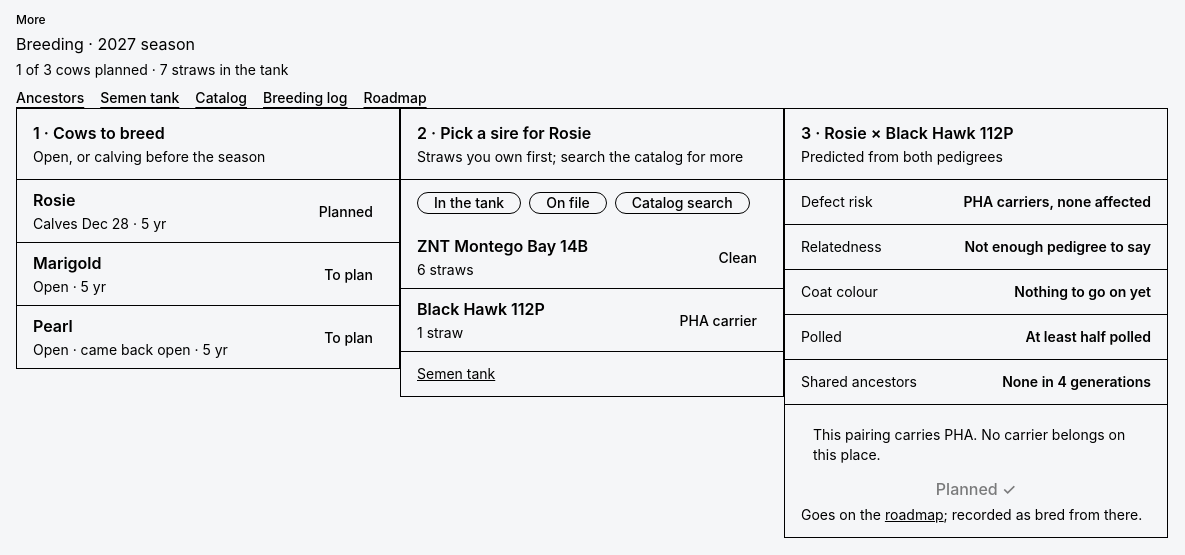
Scenario: The breeding workspace › refuses a carrier pairing out loud
This screenshot has width=1185, height=555.
Click the button "Marigold Open · 5 yr To plan" at coordinates (67, 263), box [17,243,399,305]
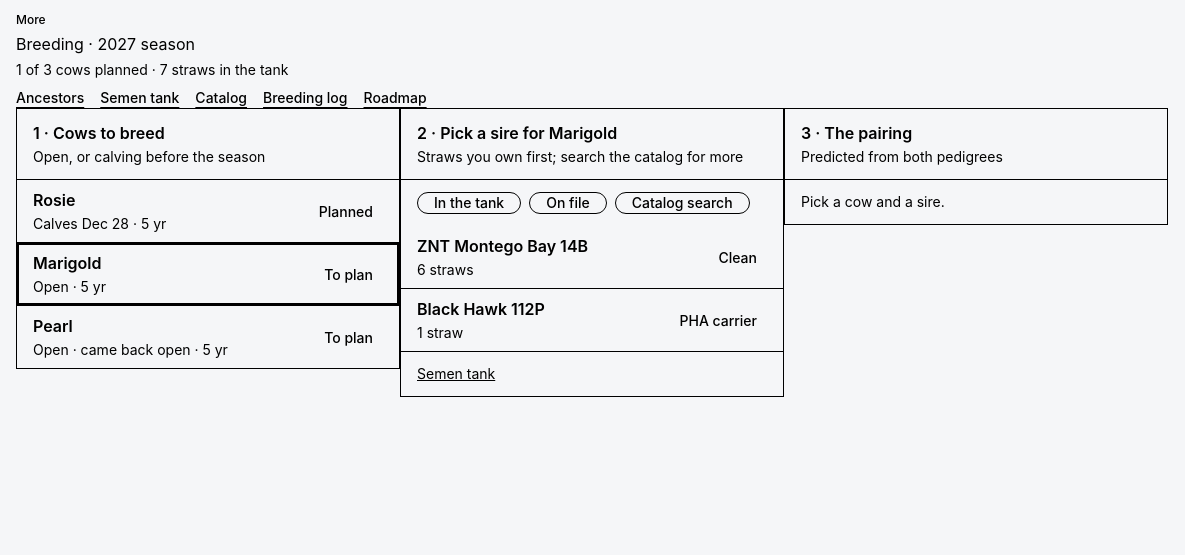
Click the button "Black Hawk 112P 1 straw PHA carrier" at coordinates (481, 309), box [401,289,783,351]
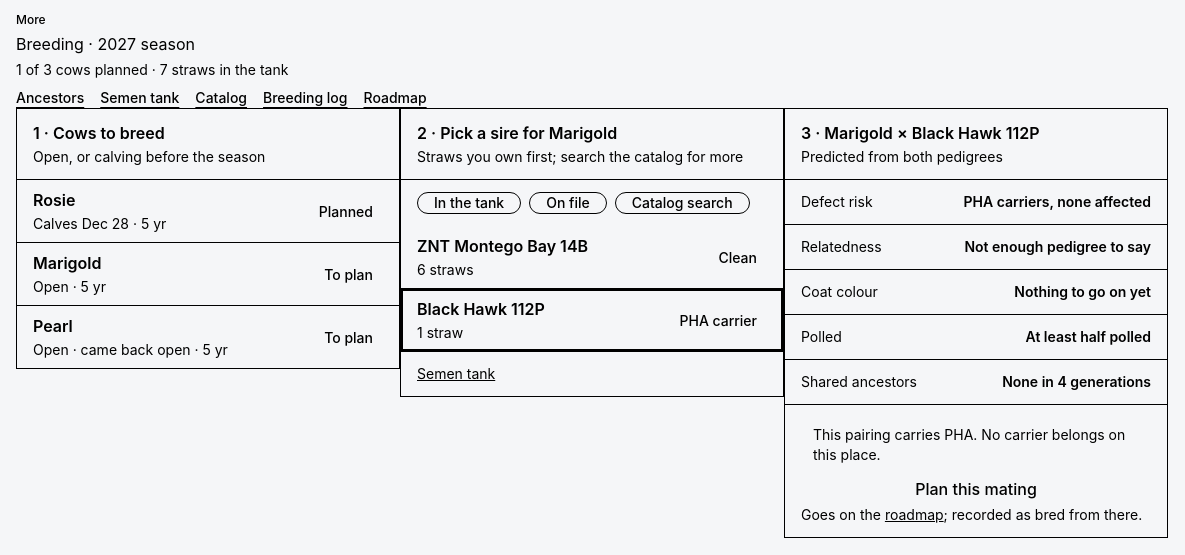
Now the text "PHA carriers, none affected" is shown, box [964,192,1151,212]
Now the message shows "carries PHA", box [813,426,1125,463]
Now the text "At least half polled" is shown, box [1026,327,1151,347]
